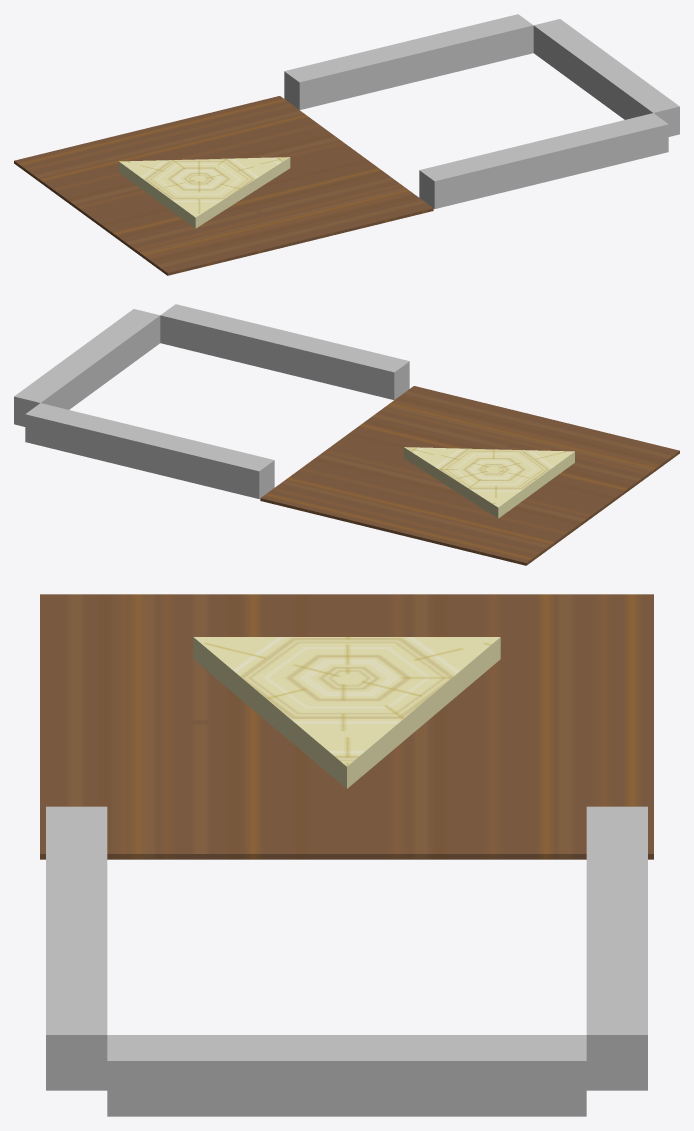
The model's file is Inspector.obj.
3 renders of one model, top to bottom at view 1: azimuth 30°, elevation 25°; view 2: azimuth 150°, elevation 25°; view 3: azimuth 270°, elevation 25°, orthographic. The views are drawn at different scales.
Parts seen in each view (by area): view 1: Object.1, Frame1, Frame2, Object.2, Frame3; view 2: Object.1, Frame2, Frame1, Object.2, Frame3; view 3: Object.1, Frame3, Object.2, Frame1, Frame2.
Part boxes in pixels (x1=…): Object.1: x1=14, y1=96, x2=433, y2=275; Frame1: x1=284, y1=14, x2=533, y2=109; Frame2: x1=419, y1=113, x2=668, y2=208; Object.2: x1=119, y1=157, x2=290, y2=228; Frame3: x1=533, y1=19, x2=679, y2=136; Object.1: x1=260, y1=386, x2=679, y2=565; Frame2: x1=160, y1=304, x2=409, y2=399; Frame1: x1=25, y1=403, x2=274, y2=498; Object.2: x1=403, y1=447, x2=574, y2=518; Frame3: x1=14, y1=309, x2=160, y2=426; Object.1: x1=40, y1=594, x2=653, y2=859; Frame3: x1=107, y1=1035, x2=586, y2=1116; Object.2: x1=193, y1=637, x2=500, y2=788; Frame1: x1=586, y1=806, x2=647, y2=1090; Frame2: x1=46, y1=806, x2=107, y2=1090.
Bounding box in the file's own units: 1.99 × 0.1 × 1.
